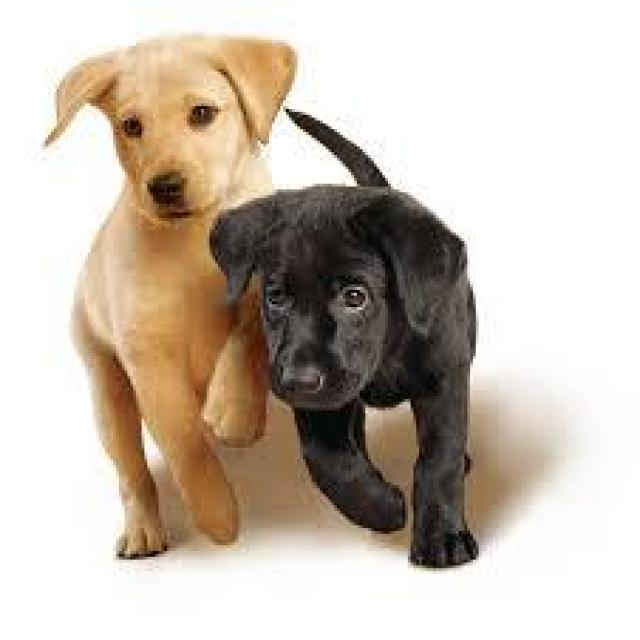Dog: (20, 12, 552, 605)
